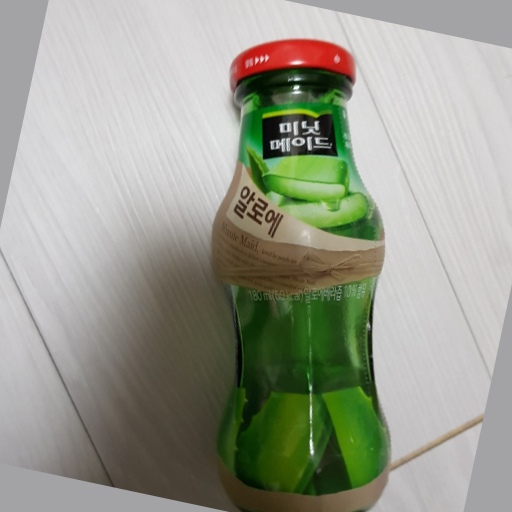Glass_4: (207, 42, 398, 512)
